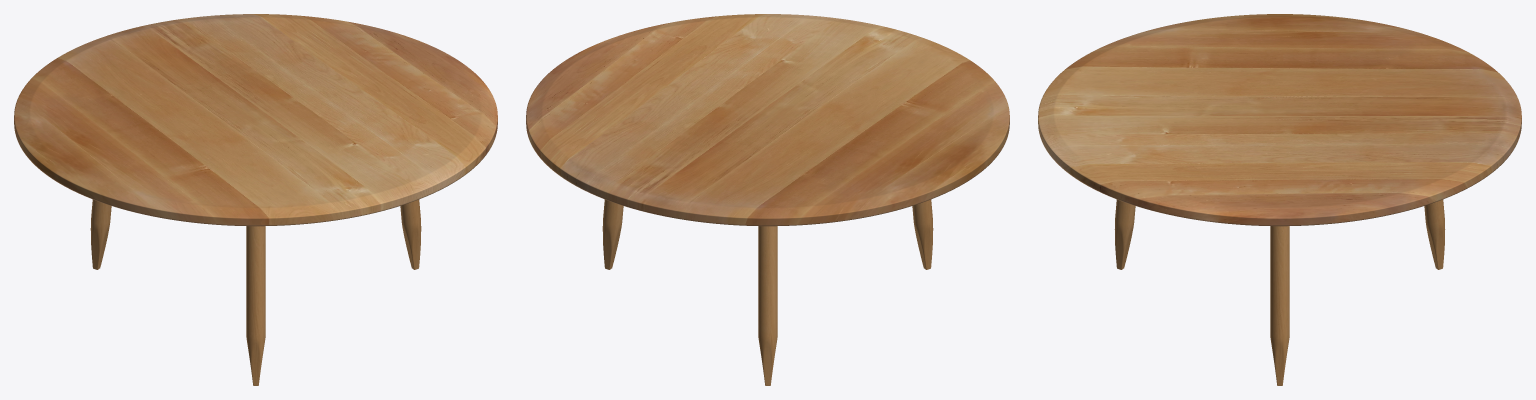
The model's file is B07TLDNPXW.glb.
The picture shows the model from 3 angles, left to right: view 1: azimuth 30°, elevation 25°; view 2: azimuth 150°, elevation 25°; view 3: azimuth 270°, elevation 25°; orthographic projection.
Parts seen in each view (by area): view 1: B07TLDNPXW; view 2: B07TLDNPXW; view 3: B07TLDNPXW.
Boxes of the visible parts, bbox=[...] form: B07TLDNPXW: bbox=[14, 14, 497, 385]; B07TLDNPXW: bbox=[526, 14, 1009, 385]; B07TLDNPXW: bbox=[1038, 14, 1521, 385].
Size of the model in its own units: 0.9 by 0.3999 by 0.9.
1 material, 1 textured.
